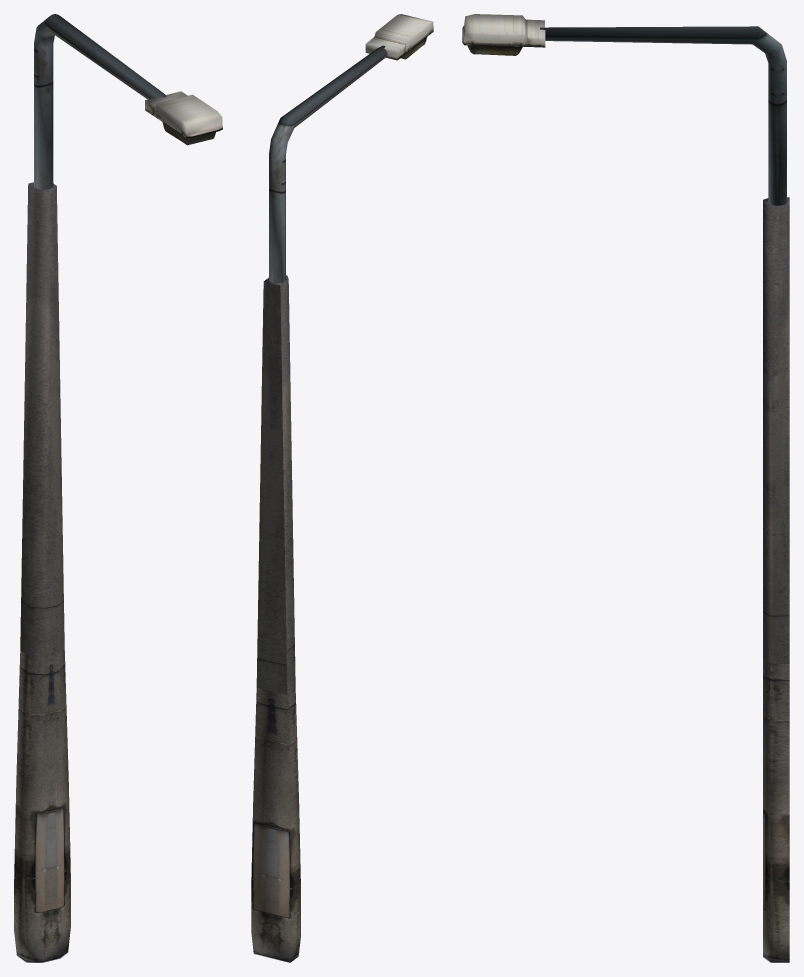
The model's file is streetlight.obj.
3 views of the same model, side by side, from view 1: azimuth 30°, elevation 25°; view 2: azimuth 150°, elevation 25°; view 3: azimuth 270°, elevation 25° (orthographic). The views are drawn at different scales.
Visible parts, largest first — view 1: streelight; view 2: streelight; view 3: streelight.
Boxes of the visible parts, left/top/right/bottom form: streelight: left=14, top=14, right=222, bottom=962; streelight: left=251, top=14, right=433, bottom=962; streelight: left=462, top=14, right=789, bottom=962.
Size of the model in its own units: 14.97 by 288 by 91.88.
1 material, 1 textured.
